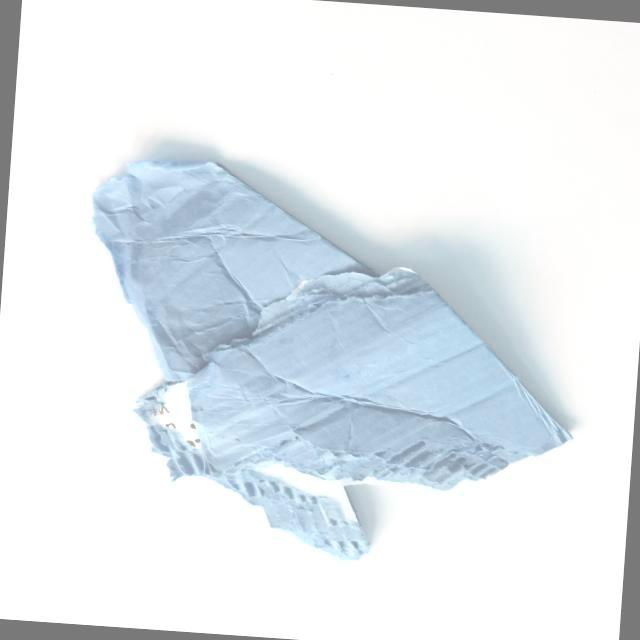cardboard: (68, 135, 592, 581)
